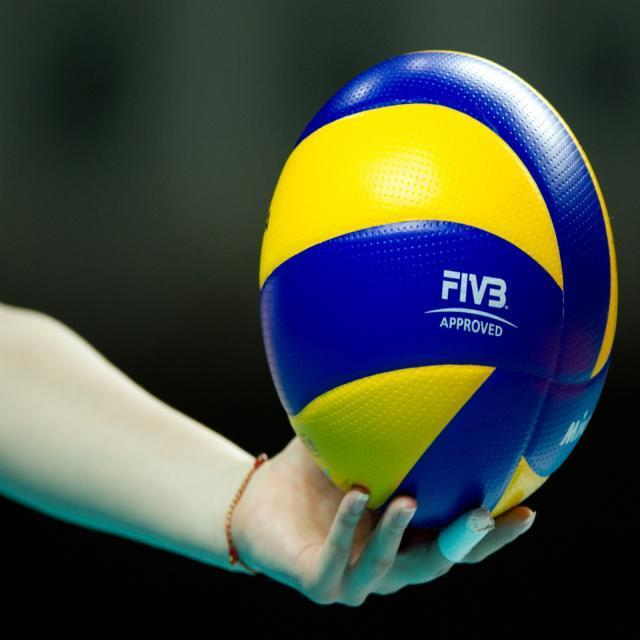volleyball: (260, 51, 618, 532)
